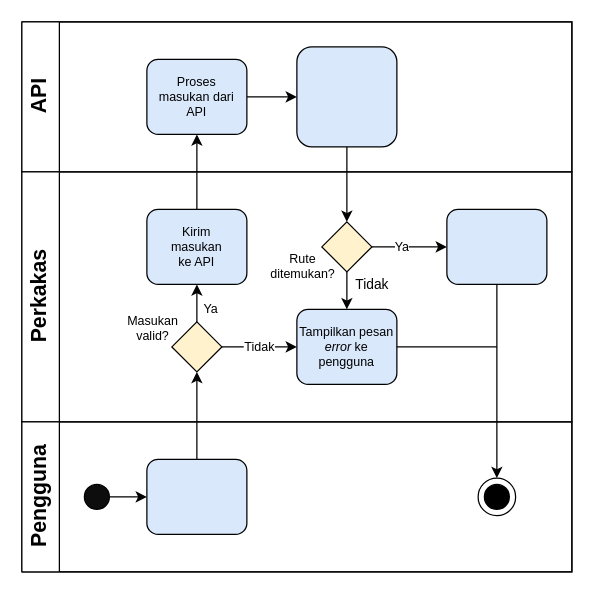
The diagram is 594 pixels wide and 594 high, and some of its shapes have lost their labels. Here are the shapes that lost their labels. From the top down, the centre of each, then its label:
At pixel 346 96: "Kirim hasil pemrosesan (rute) ke perkakas".
At pixel 496 246: "Tampilkan keluaran ke pengguna".
At pixel 196 496: "Ketik masukan (koordinat kedua lokasi)".
